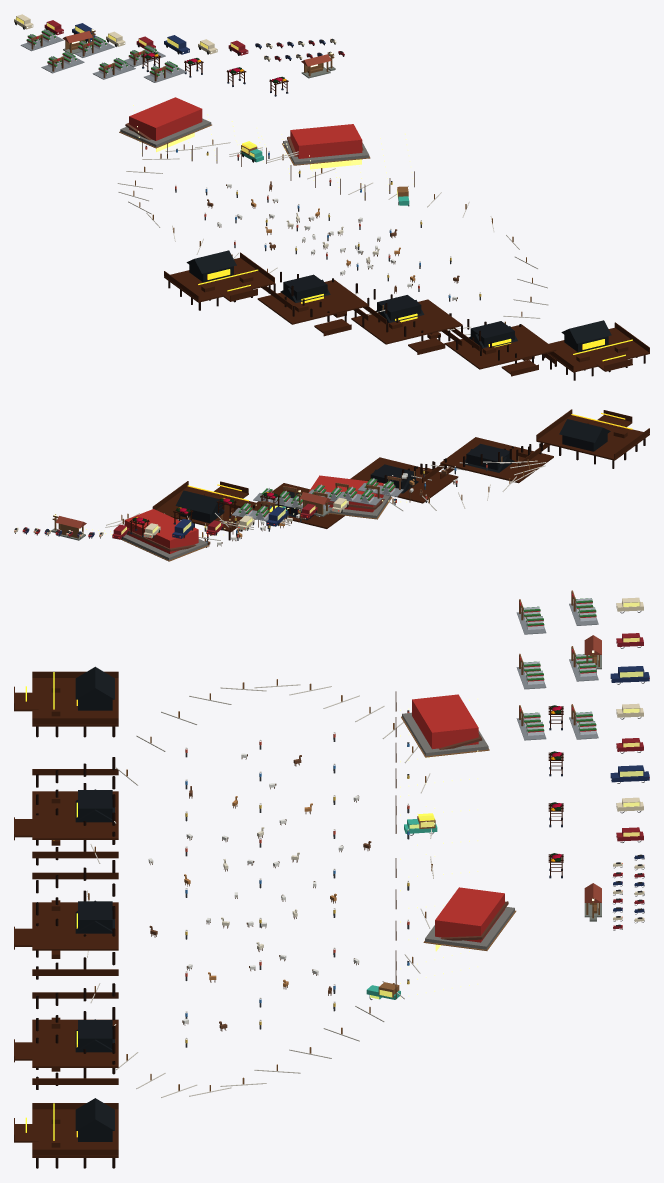
The model's file is ul_w10_01_chika_farm_xuan_tho_alpaca_pasture_and_countryside_cafe.glb.
The picture shows the model from 3 angles, top to bottom: view 1: azimuth 30°, elevation 25°; view 2: azimuth 150°, elevation 25°; view 3: azimuth 270°, elevation 25°; orthographic projection. The views are drawn at different scales.
Parts seen in each view (by area): view 1: ul_w10_01_chika_farm_xuan_tho_alpaca_pasture_and_countryside (×14); view 2: ul_w10_01_chika_farm_xuan_tho_alpaca_pasture_and_countryside (×19); view 3: ul_w10_01_chika_farm_xuan_tho_alpaca_pasture_and_countryside (×14).
Boxes of the visible parts, left/top/right/bottom form: ul_w10_01_chika_farm_xuan_tho_alpaca_pasture_and_countryside (×14): left=14, top=14, right=649, bottom=380; ul_w10_01_chika_farm_xuan_tho_alpaca_pasture_and_countryside (×19): left=14, top=409, right=649, bottom=561; ul_w10_01_chika_farm_xuan_tho_alpaca_pasture_and_countryside (×14): left=14, top=597, right=649, bottom=1168.
Size of the model in its own units: 106 by 59.69 by 103.
